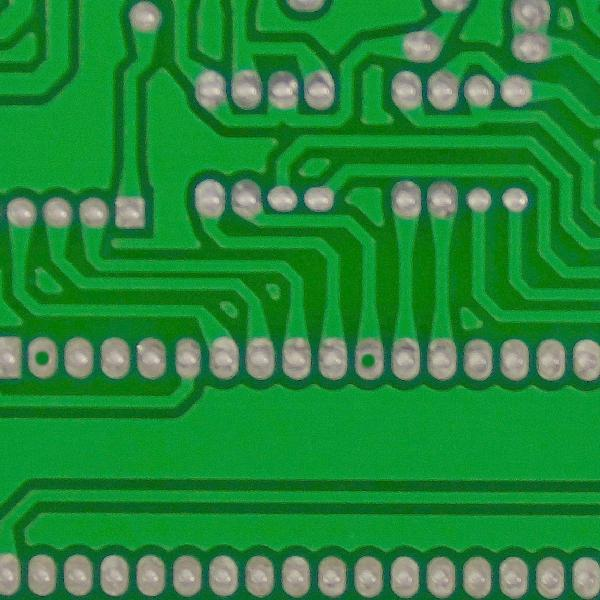missing_hole: (347, 339, 392, 384), (25, 334, 64, 382)
